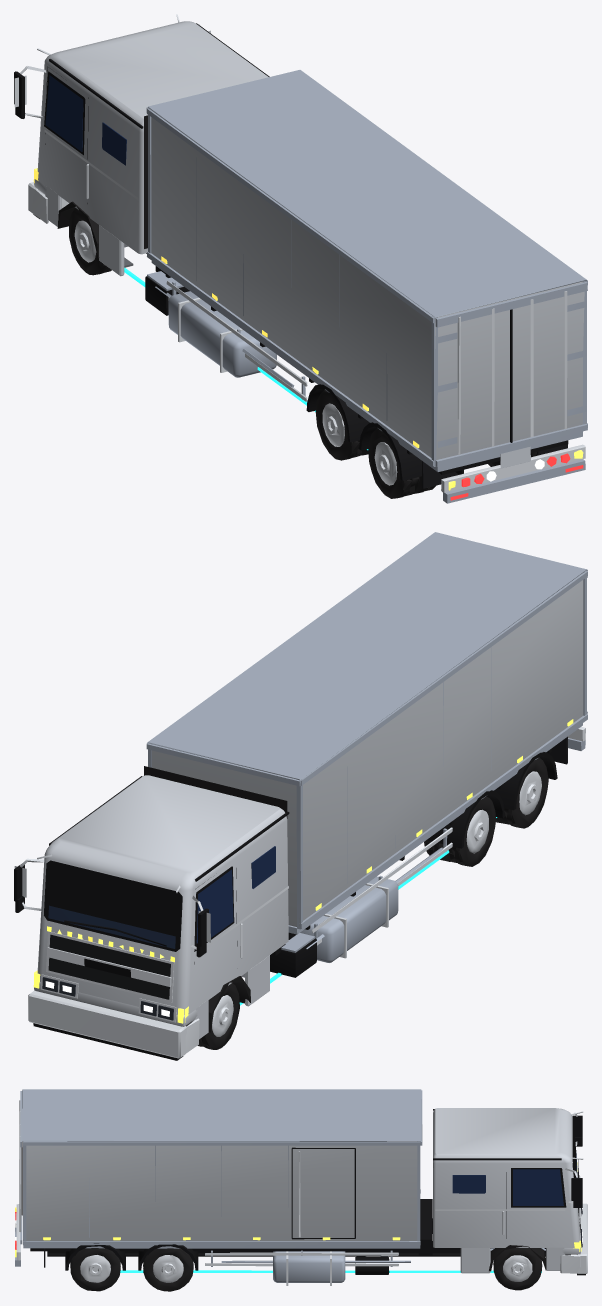
The model's file is dekotora_truck_alubox_lod1.glb.
3 renders of one model, top to bottom at view 1: azimuth 30°, elevation 25°; view 2: azimuth 150°, elevation 25°; view 3: azimuth 270°, elevation 25°, orthographic. The views are drawn at different scales.
Visible parts, largest first — view 1: lod1_steel, lod1_box_alu, lod1_paint_white_panel, lod1_chrome, lod1_plastic_black, lod1_rubber_tire, lod1_glass, lod1_plastic_trim; view 2: lod1_steel, lod1_box_alu, lod1_paint_white_panel, lod1_plastic_black, lod1_chrome, lod1_rubber_tire, lod1_vent_slots, lod1_glass, lod1_plastic_trim, lod1_glass_wind; view 3: lod1_box_alu, lod1_steel, lod1_paint_white_panel, lod1_plastic_black, lod1_chrome, lod1_rubber_tire, lod1_glass, lod1_lamp_cyan, lod1_plastic_trim.
Part boxes in pixels (box(x1,y1,x2,y2)): lod1_steel: box(146, 70, 587, 503); lod1_box_alu: box(151, 117, 585, 459); lod1_paint_white_panel: box(34, 21, 268, 276); lod1_chrome: box(14, 14, 585, 492); lod1_plastic_black: box(14, 23, 568, 480); lod1_rubber_tire: box(69, 208, 536, 498); lod1_glass: box(45, 75, 126, 165); lod1_plastic_trim: box(57, 115, 147, 258); lod1_steel: box(146, 532, 587, 962); lod1_box_alu: box(152, 580, 583, 926); lod1_paint_white_panel: box(34, 775, 288, 1039); lod1_plastic_black: box(14, 748, 557, 1060); lod1_chrome: box(14, 727, 585, 1058); lod1_rubber_tire: box(197, 758, 548, 1049); lod1_vent_slots: box(48, 934, 170, 999); lod1_glass: box(196, 846, 275, 943); lod1_plastic_trim: box(144, 766, 287, 1032); lod1_glass_wind: box(48, 905, 175, 948); lod1_box_alu: box(26, 1141, 417, 1240); lod1_steel: box(15, 1089, 545, 1282); lod1_paint_white_panel: box(433, 1108, 580, 1273); lod1_plastic_black: box(21, 1109, 585, 1275); lod1_chrome: box(16, 1100, 587, 1285); lod1_rubber_tire: box(70, 1248, 542, 1291); lod1_glass: box(452, 1169, 563, 1205); lod1_lamp_cyan: box(120, 1270, 541, 1272); lod1_plastic_trim: box(489, 1245, 545, 1271).
Size of the model in its own units: 3.24 by 3.47 by 11.83.
Materials: 19 (6 with a texture image).
